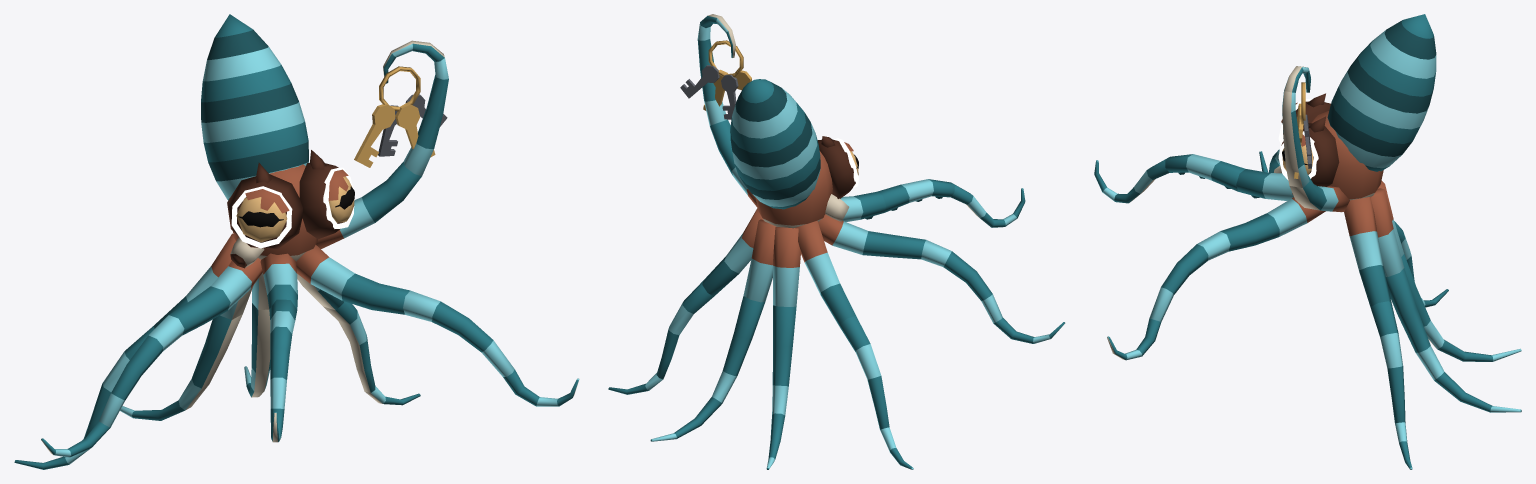
Rendered from octopus-latch-lifter.glb.
The picture shows the model from 3 angles, left to right: view 1: azimuth 30°, elevation 25°; view 2: azimuth 150°, elevation 25°; view 3: azimuth 270°, elevation 25°; orthographic projection. The views are drawn at different scales.
Parts seen in each view (by area): view 1: body, pulse_mantle, sway_keys, wave_arm6_0, wave_arm1_0, wave_arm2_0, wave_arm3_0, wave_arm7_0, wave_arm5_0, blink_eye_r, wave_arm0_1, wave_arm0_0 (+5 smaller); view 2: body, pulse_mantle, wave_arm7_0, wave_arm6_0, sway_keys, wave_arm4_0, wave_arm2_0, wave_arm0_0, wave_arm5_0, wave_arm3_0, wave_arm0_1, wave_arm2_1; view 3: body, pulse_mantle, wave_arm7_0, wave_arm5_0, wave_arm1_0, wave_arm3_0, wave_arm0_0, wave_arm6_0, wave_arm0_1, wave_arm1_1, sway_keys, wave_arm3_1.
Part boxes in pixels (left/top/right/bottom): body: left=154, top=150, right=421, bottom=335; pulse_mantle: left=201, top=14, right=308, bottom=200; sway_keys: left=354, top=66, right=447, bottom=167; wave_arm6_0: left=120, top=314, right=242, bottom=420; wave_arm1_0: left=403, top=290, right=514, bottom=376; wave_arm2_0: left=99, top=315, right=184, bottom=427; wave_arm3_0: left=403, top=58, right=448, bottom=176; wave_arm7_0: left=244, top=303, right=270, bottom=397; wave_arm5_0: left=323, top=301, right=375, bottom=392; blink_eye_r: left=236, top=197, right=287, bottom=242; wave_arm0_1: left=270, top=349, right=289, bottom=437; wave_arm0_0: left=269, top=299, right=297, bottom=353; body: left=702, top=119, right=925, bottom=326; pulse_mantle: left=730, top=79, right=820, bottom=209; wave_arm7_0: left=650, top=296, right=765, bottom=441; wave_arm6_0: left=766, top=305, right=796, bottom=469; sway_keys: left=680, top=40, right=751, bottom=119; wave_arm4_0: left=840, top=316, right=889, bottom=429; wave_arm2_0: left=921, top=240, right=1002, bottom=323; wave_arm0_0: left=877, top=179, right=954, bottom=212; wave_arm5_0: left=656, top=280, right=713, bottom=379; wave_arm3_0: left=697, top=22, right=726, bottom=125; wave_arm0_1: left=951, top=183, right=1005, bottom=227; wave_arm2_1: left=993, top=318, right=1065, bottom=343; body: left=1220, top=93, right=1404, bottom=306; pulse_mantle: left=1327, top=14, right=1436, bottom=171; wave_arm7_0: left=1386, top=268, right=1521, bottom=412; wave_arm5_0: left=1370, top=301, right=1405, bottom=423; wave_arm1_0: left=1149, top=231, right=1230, bottom=321; wave_arm3_0: left=1282, top=91, right=1309, bottom=187; wave_arm0_0: left=1165, top=154, right=1245, bottom=191; wave_arm6_0: left=1401, top=254, right=1521, bottom=361; wave_arm0_1: left=1114, top=157, right=1169, bottom=203; wave_arm1_1: left=1107, top=318, right=1161, bottom=360; sway_keys: left=1294, top=82, right=1311, bottom=178; wave_arm3_1: left=1284, top=66, right=1310, bottom=92.
Bounding box in the file's own units: 0.9823 × 0.8585 × 0.8787.
